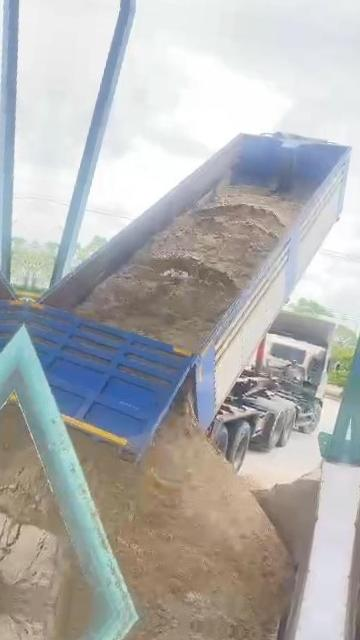sand: (73, 371, 292, 636), (75, 185, 299, 350), (0, 408, 92, 610), (241, 469, 319, 570)
